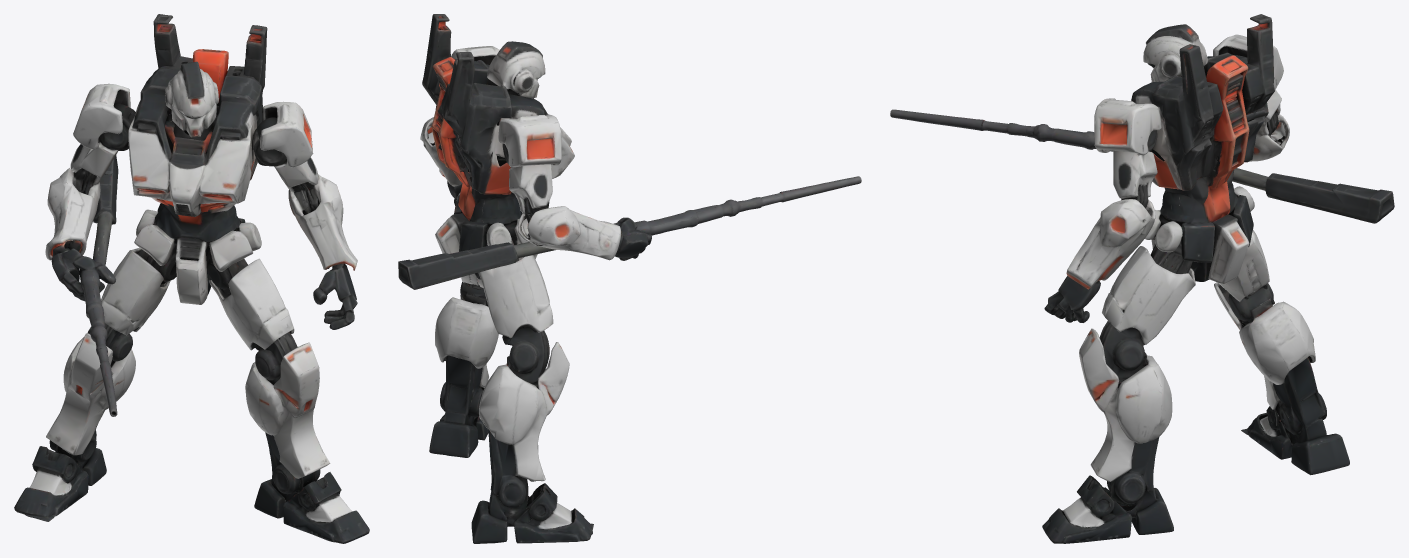
Rendered from detail_2.glb.
3 views of the same model, side by side, from view 1: azimuth 30°, elevation 25°; view 2: azimuth 150°, elevation 25°; view 3: azimuth 270°, elevation 25° (orthographic). The views are drawn at different scales.
Size of the model in its own units: 0.7728 by 1 by 0.9608.
Materials: 1 (1 with a texture image).
